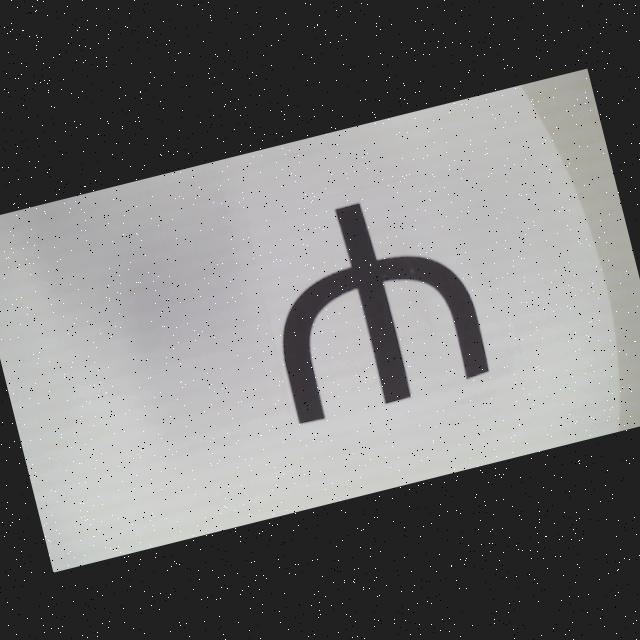PSI: (250, 181, 492, 425)
